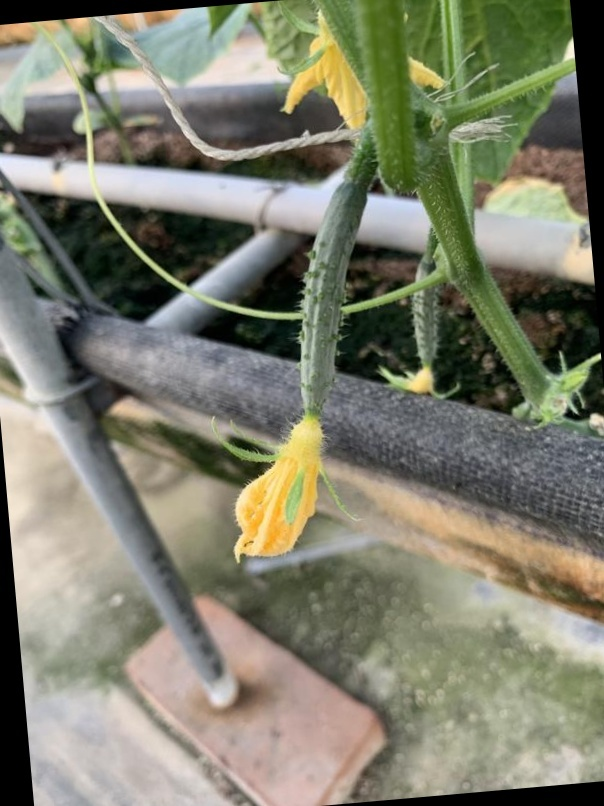bear: (218, 175, 389, 558)
